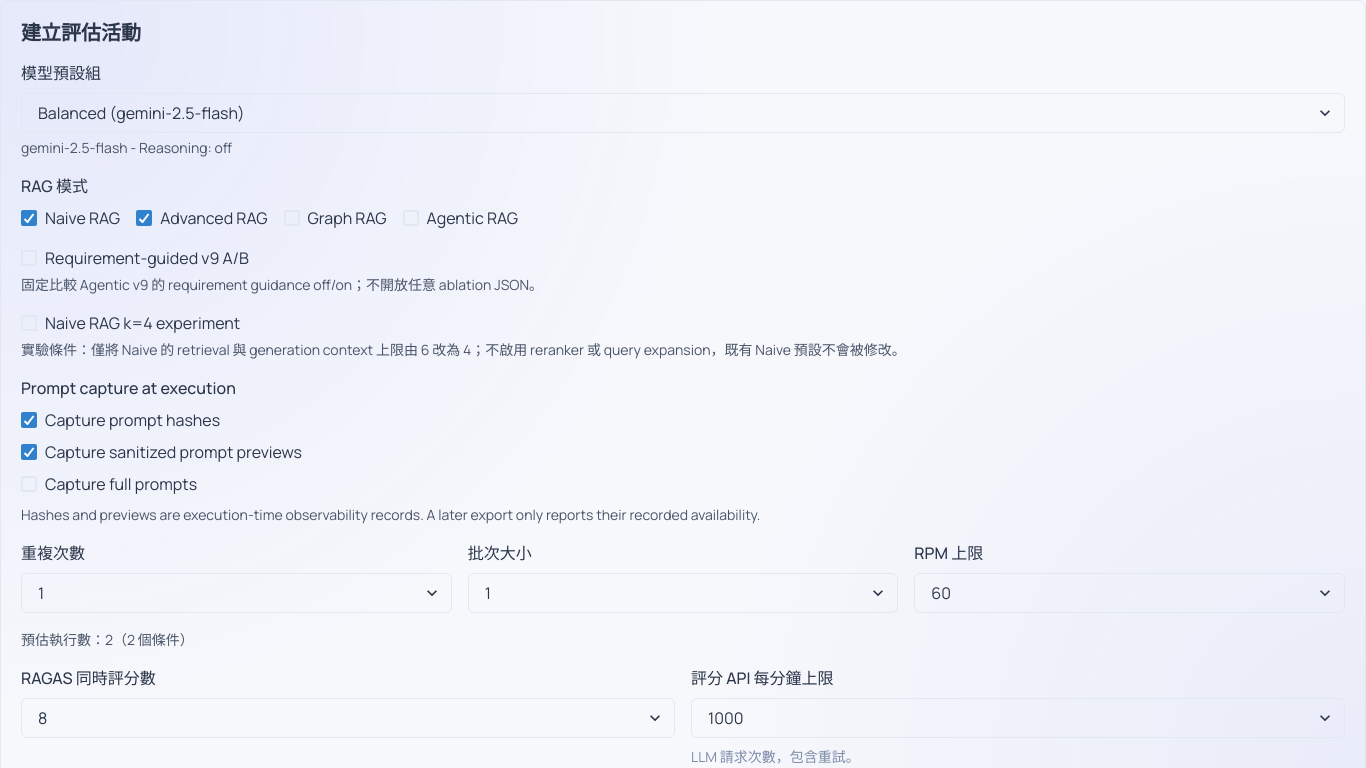
Test case: CampaignRunner › clears the Naive k=4 ablation when requirement-guided A/B is enabled
Click the checkbox labelled "Naive RAG k=4 experiment" at (131, 323), box [21,311,240,335]
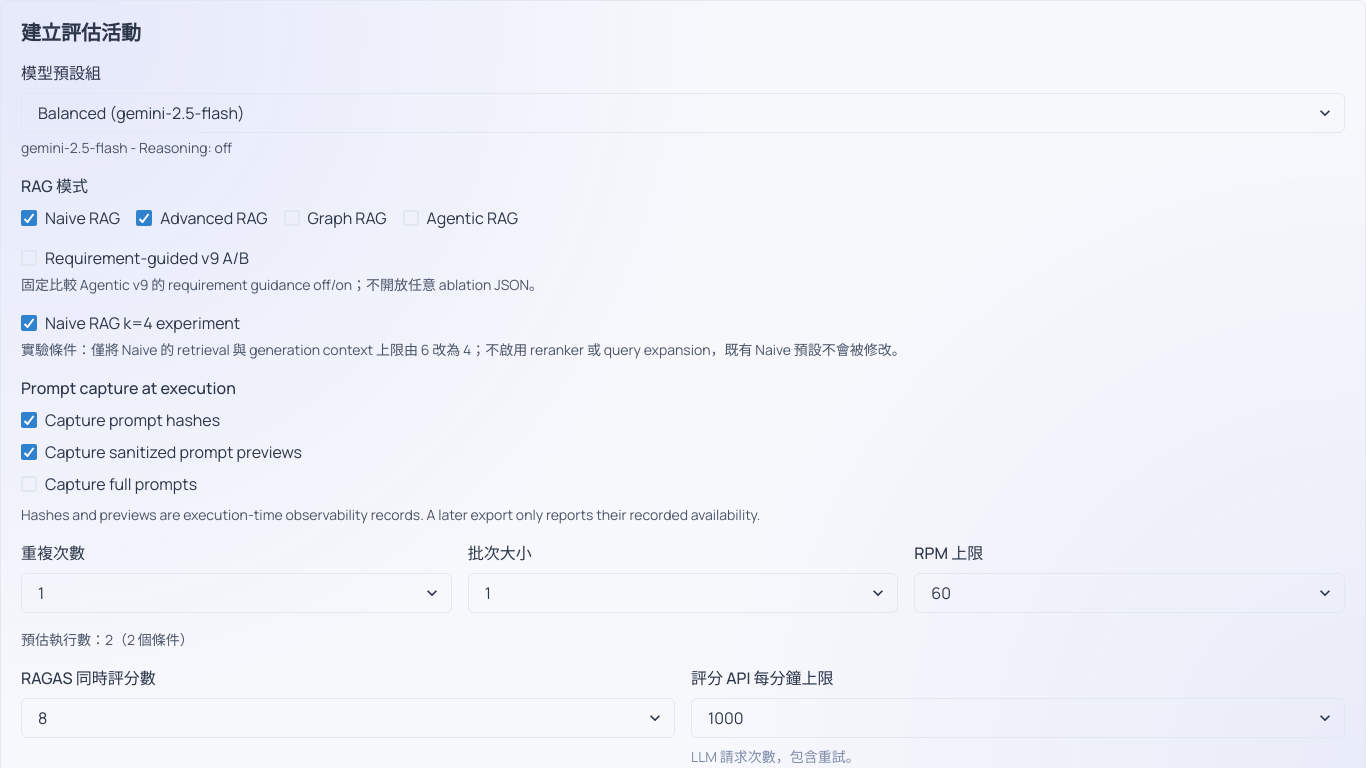
expect the checkbox labelled "Naive RAG k=4 experiment" is checked: met, box [21,311,240,335]
Click the checkbox labelled "Requirement-guided v9 A/B" at (135, 258), box [21,246,249,270]
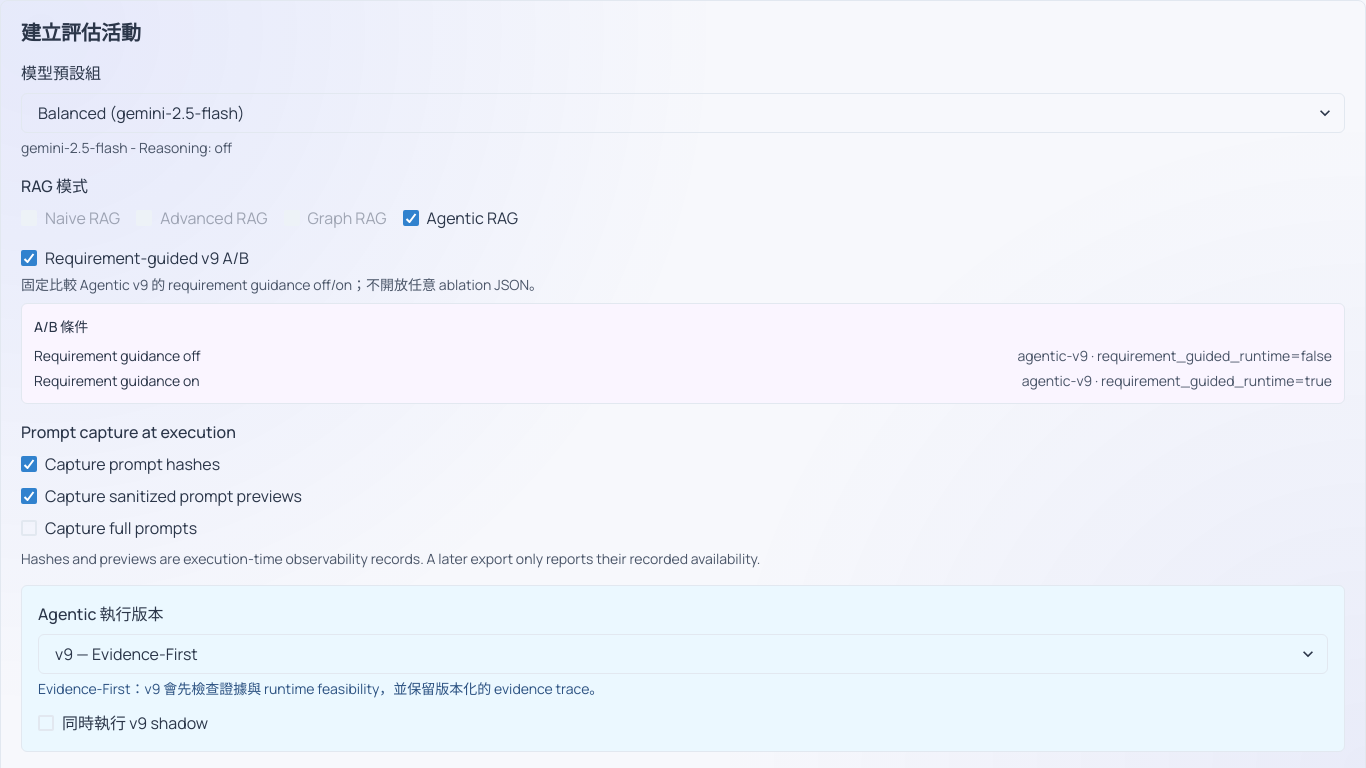
expect the checkbox labelled "Requirement-guided v9 A/B" is checked: met, box [21,246,249,270]
expect the text "Naive RAG k=4 experiment" is gone: met
